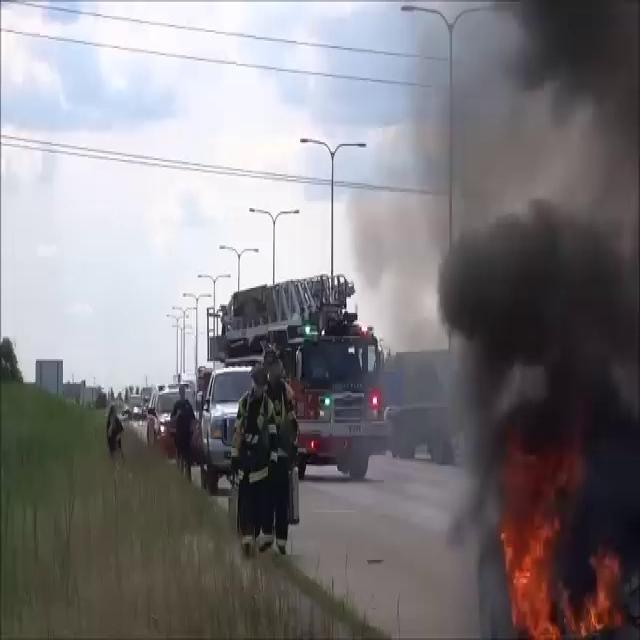Fire: (493, 498, 622, 638), (493, 500, 580, 638)
Smoke: (383, 0, 640, 549)
